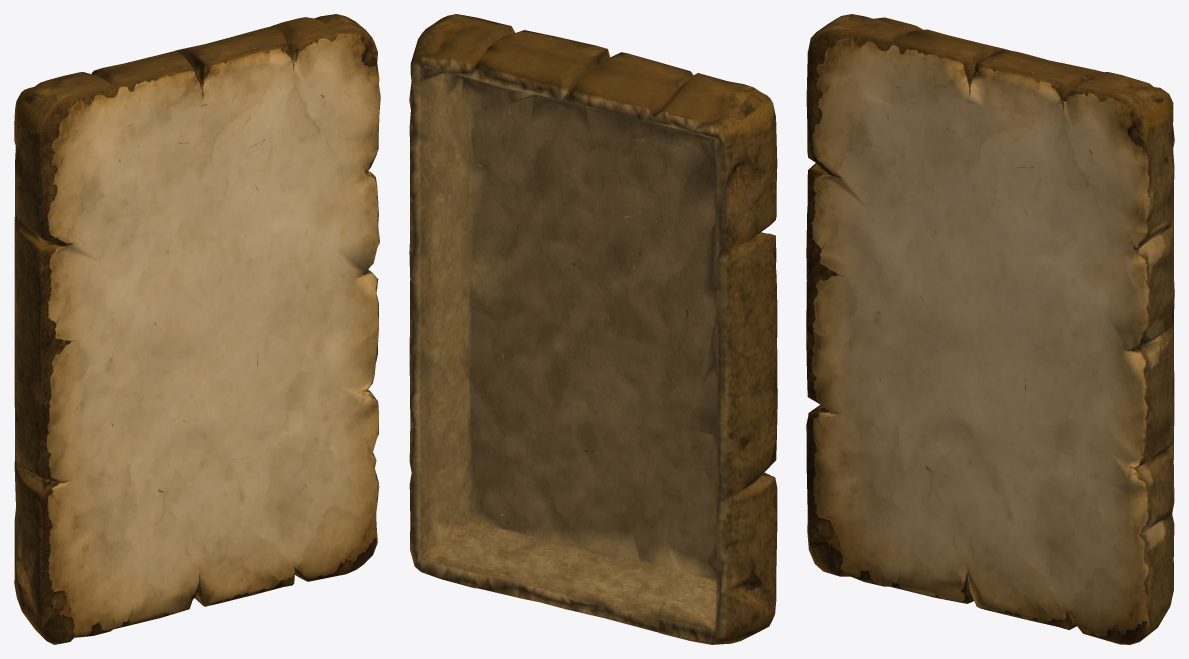
The model's file is card_deck_lp.glb.
3 renders of one model, left to right at view 1: azimuth 30°, elevation 25°; view 2: azimuth 150°, elevation 25°; view 3: azimuth 330°, elevation 25°, orthographic.
Bounding box in the file's own units: 1.24 × 1.9 × 0.2487.
1 material, 1 textured.
